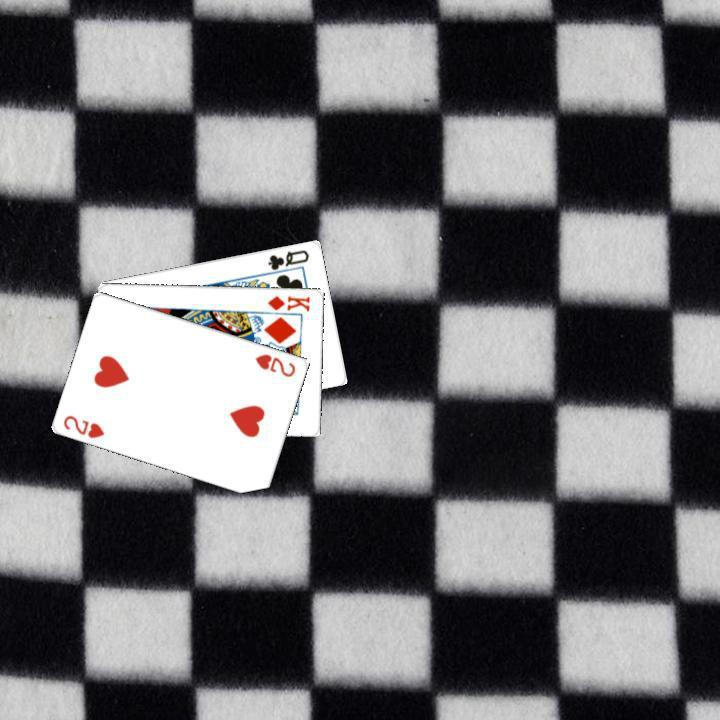2: (251, 349, 298, 379), (59, 411, 107, 440)
K: (263, 291, 312, 313)
Q: (264, 245, 311, 272)
